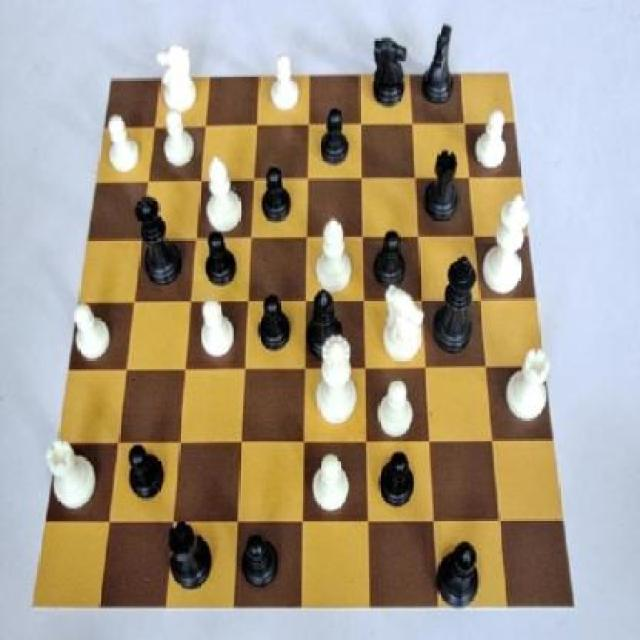bishop: (431, 530, 486, 618), (303, 283, 351, 372)
black-bishop: (432, 248, 482, 359)
black-king: (419, 20, 463, 112), (368, 32, 412, 117)
black-knight: (369, 222, 417, 299), (197, 223, 246, 295), (234, 526, 283, 597), (377, 443, 420, 521), (314, 101, 358, 176), (252, 286, 296, 360), (256, 159, 296, 236), (121, 441, 166, 504)
black-pawn: (132, 189, 193, 294)
black-queen: (162, 516, 218, 598), (422, 148, 466, 223)
black-rook: (308, 216, 359, 302), (200, 152, 246, 235)
white-bishop: (480, 192, 534, 297)
white-king: (153, 29, 204, 122), (382, 275, 428, 367)
white-knight: (372, 366, 425, 443), (193, 294, 244, 374), (304, 448, 354, 524), (103, 109, 151, 181), (68, 298, 114, 368), (158, 108, 204, 175), (263, 46, 305, 119), (471, 106, 514, 174)
white-pawn: (311, 334, 362, 433)
white-queen: (41, 434, 100, 523), (503, 343, 553, 427)
